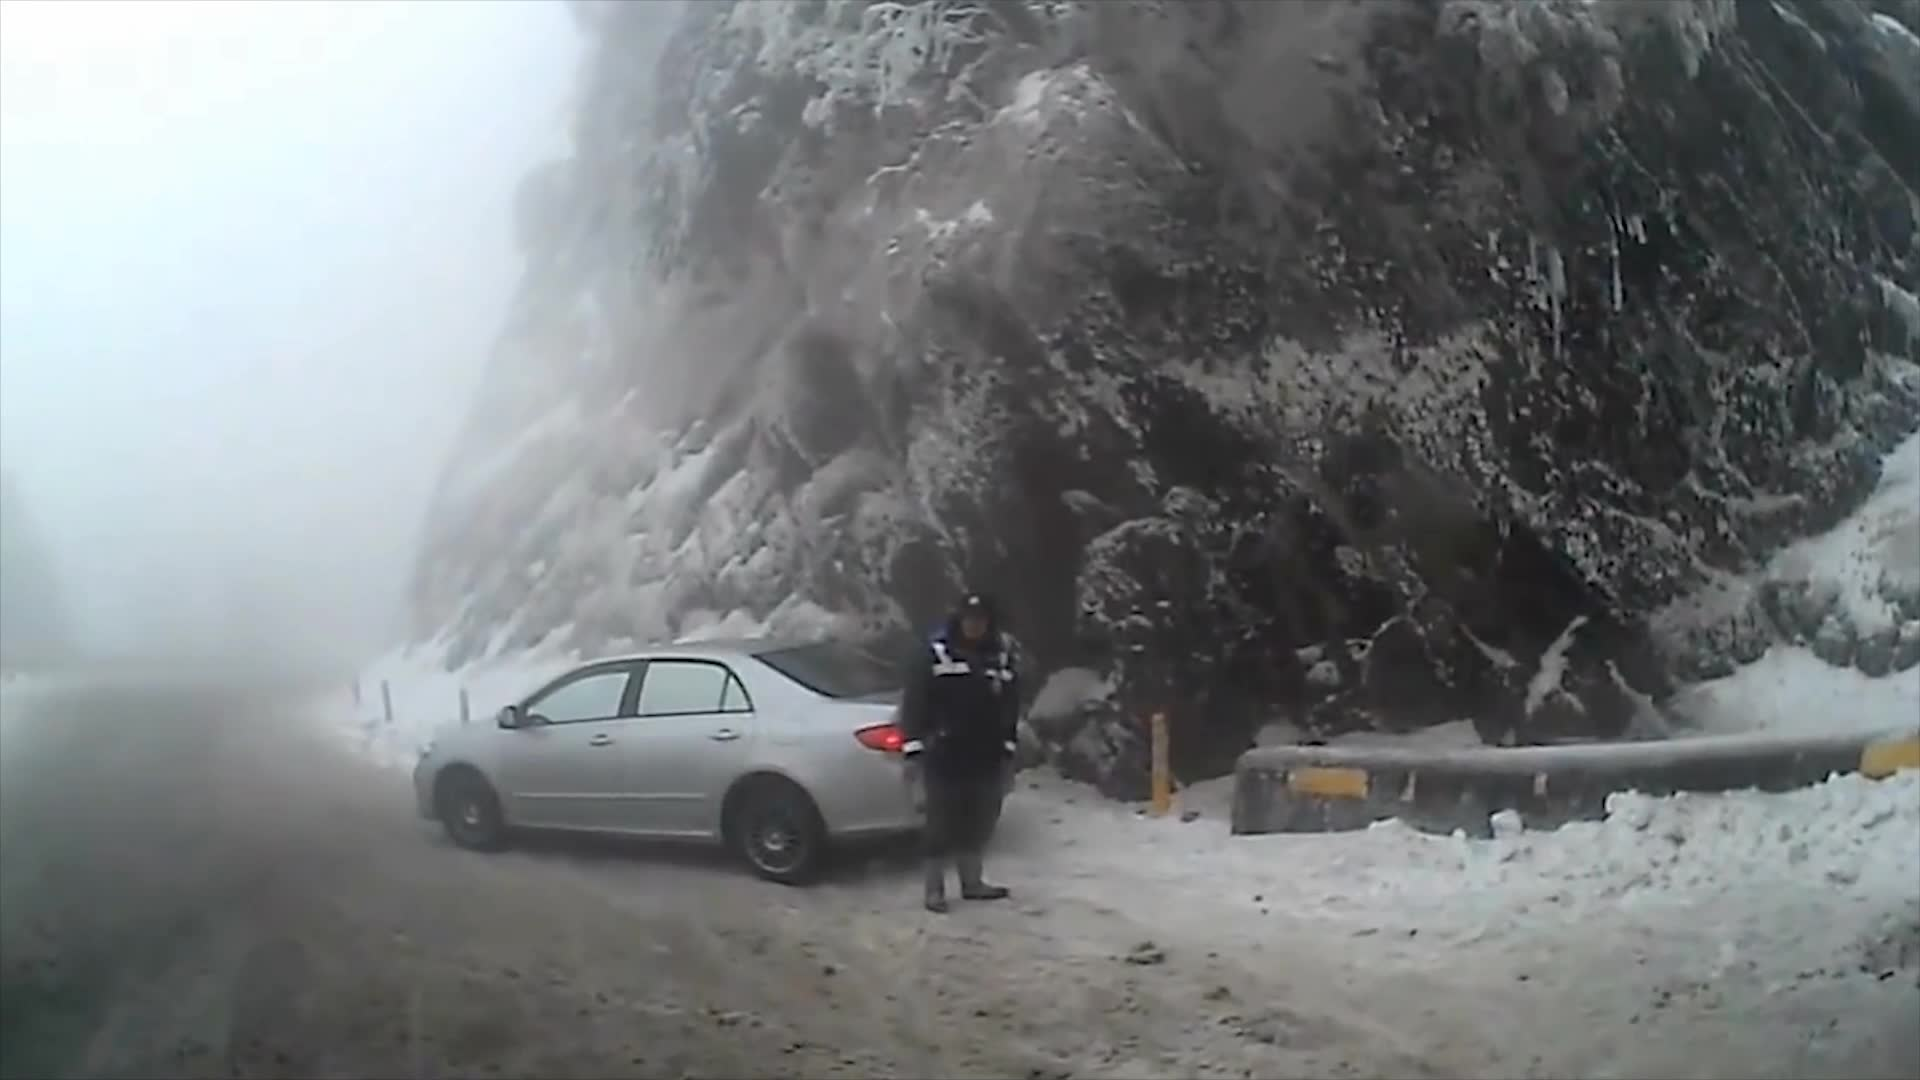pedestrian: (901, 590, 1020, 912)
vehicle: (410, 635, 1014, 888)
